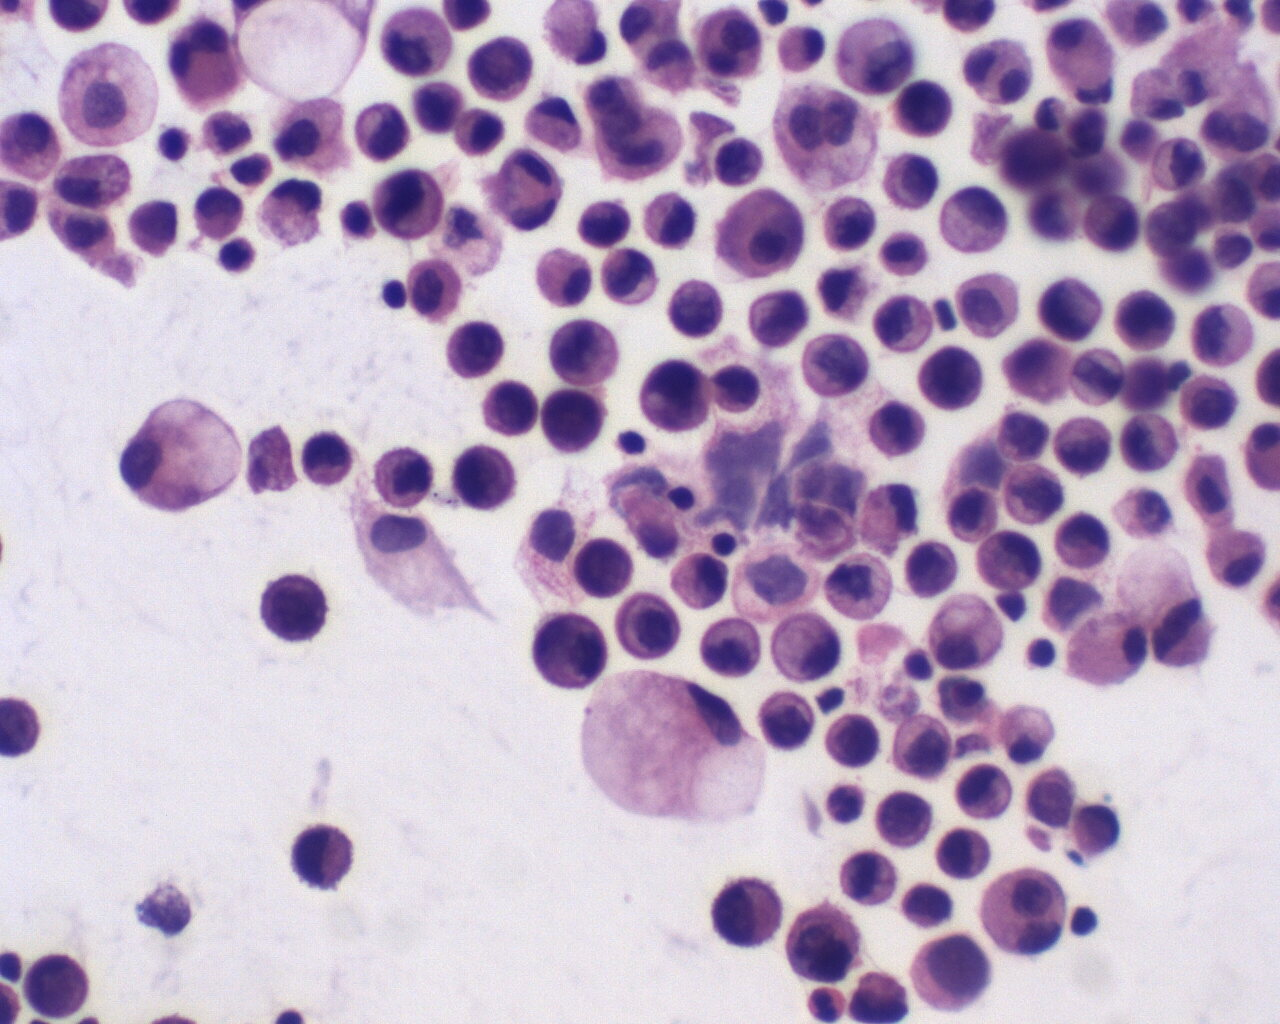ab: (909, 923, 997, 1018), (248, 566, 339, 653), (784, 897, 869, 984), (526, 604, 611, 692), (369, 166, 447, 246), (18, 947, 101, 1020), (638, 350, 713, 432), (532, 382, 613, 456), (1032, 276, 1112, 348), (745, 277, 816, 357), (898, 529, 968, 610), (799, 327, 874, 403), (567, 532, 645, 605), (449, 437, 527, 509), (1110, 284, 1186, 354), (464, 33, 537, 106), (916, 342, 986, 413), (665, 273, 731, 345), (751, 684, 818, 755), (1180, 360, 1243, 433), (372, 442, 438, 511), (999, 462, 1066, 528), (1117, 412, 1182, 480), (1050, 414, 1115, 481), (1051, 508, 1118, 573), (869, 788, 935, 853), (480, 375, 543, 442), (345, 98, 413, 161), (889, 76, 954, 141), (879, 152, 942, 215), (444, 320, 507, 383), (708, 133, 775, 192), (824, 708, 884, 770), (408, 75, 465, 139), (821, 188, 875, 253), (708, 358, 763, 419)
histo: (578, 652, 764, 838), (104, 385, 249, 518), (1063, 606, 1153, 690)
lymph: (375, 274, 410, 312)
meso: (975, 859, 1070, 965), (961, 34, 1035, 107), (523, 247, 596, 315)
